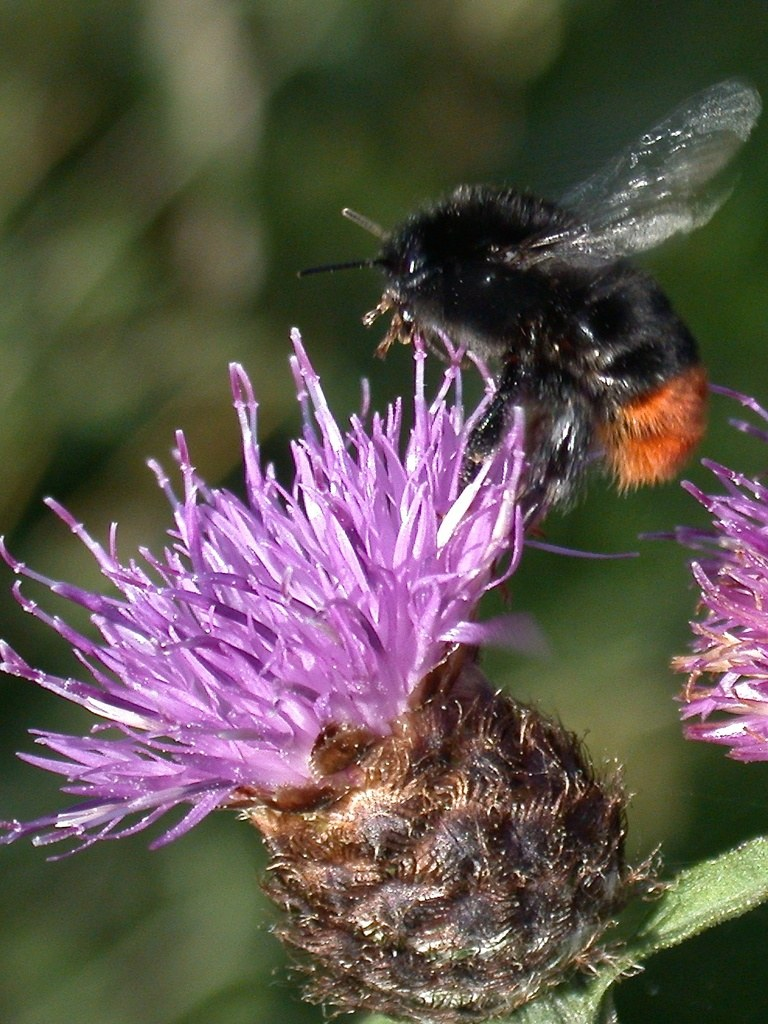bee: (296, 76, 767, 508)
insect: (33, 353, 592, 876), (649, 385, 767, 780)
